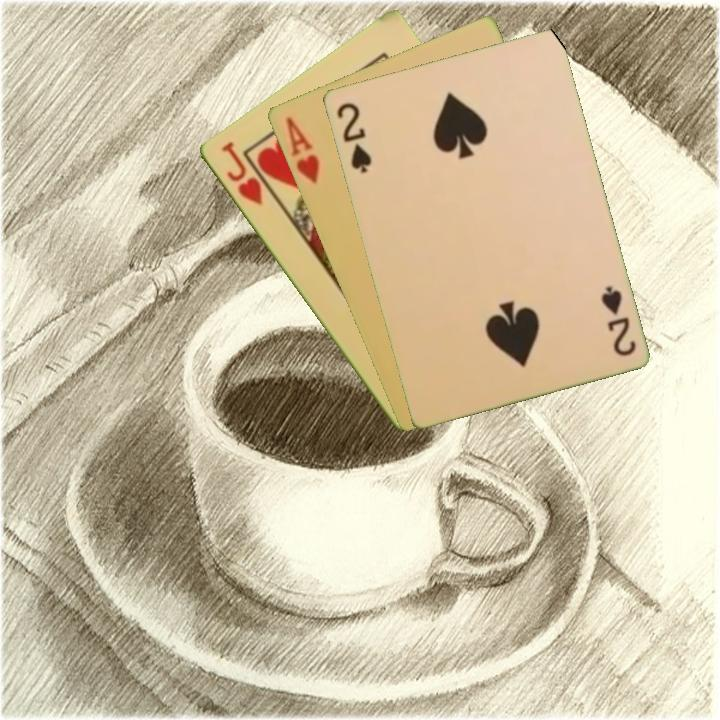2s: (332, 98, 374, 176), (597, 282, 638, 359)
Ah: (281, 112, 322, 187)
Jh: (217, 138, 265, 208)
